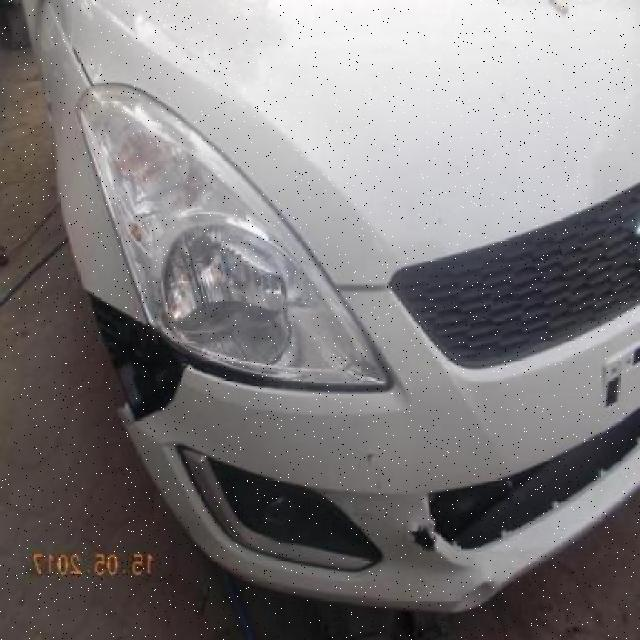damage: (83, 291, 390, 428), (453, 578, 499, 615), (410, 525, 438, 557), (357, 439, 384, 468)
